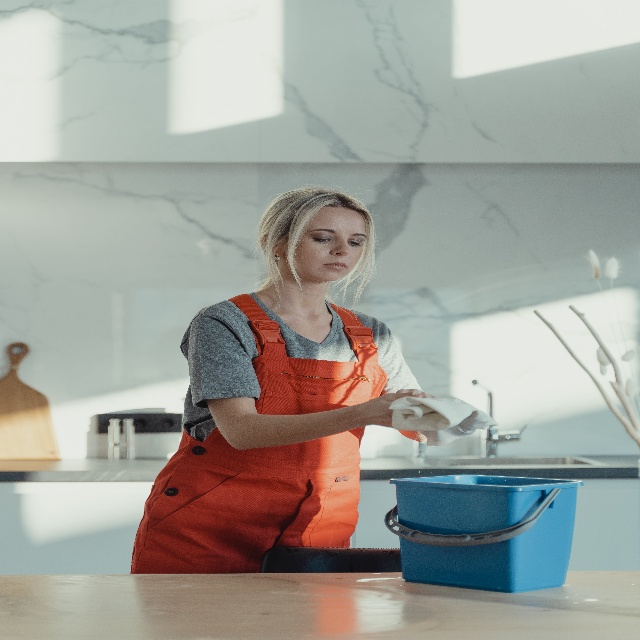Sin_guantes: (365, 389, 422, 428)
